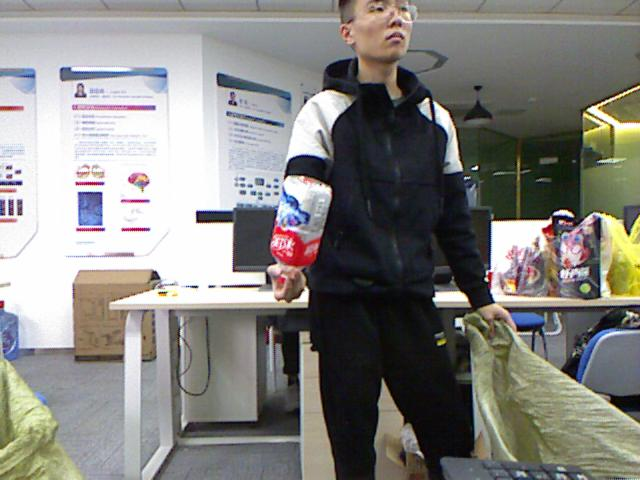cardboard paper: (73, 270, 158, 361)
plastic: (271, 175, 330, 267)
